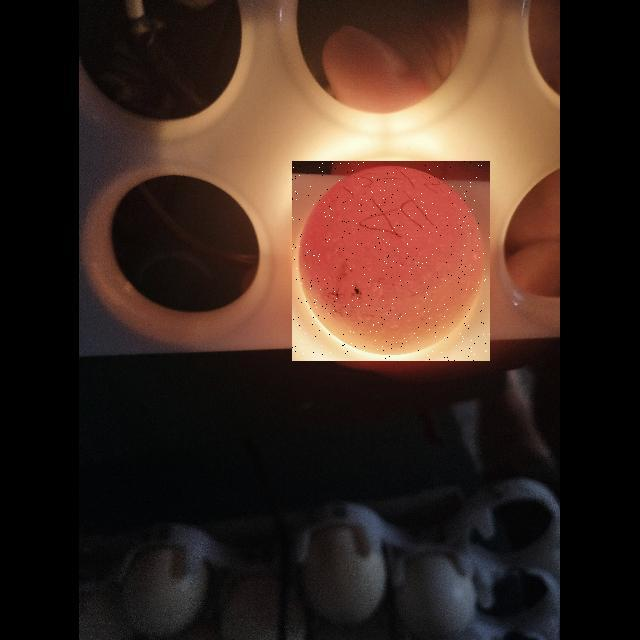Infertile: (292, 161, 490, 361)
